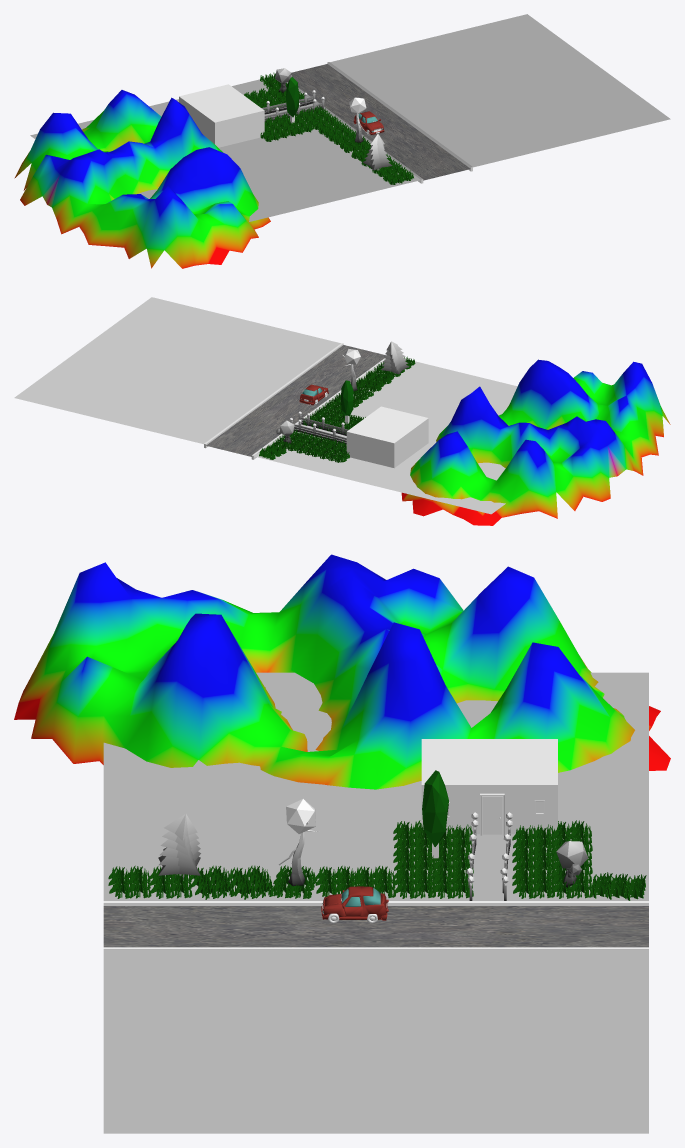
Rendered from Module_6_SM.FBX.
The picture shows the model from 3 angles, top to bottom: view 1: azimuth 30°, elevation 25°; view 2: azimuth 150°, elevation 25°; view 3: azimuth 270°, elevation 25°; orthographic projection. The views are drawn at different scales.
Parts seen in each view (by area): view 1: Module_6_SMBAd_LOD0; view 2: Module_6_SMBAd_LOD0; view 3: Module_6_SMBAd_LOD0.
Part boxes in pixels (x1,y1,x2,y2): Module_6_SMBAd_LOD0: (14,14,670,268); Module_6_SMBAd_LOD0: (14,297,670,525); Module_6_SMBAd_LOD0: (14,554,670,1133).
Size of the model in its own units: 11304 by 6024 by 1540.
